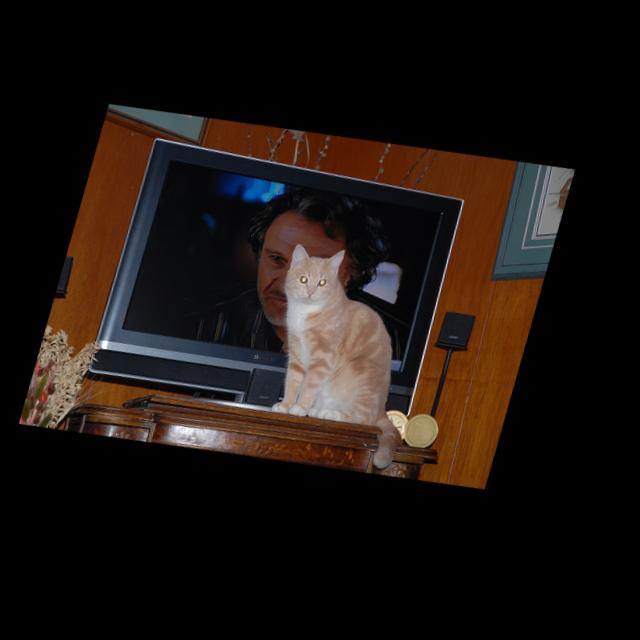animals: (287, 245, 348, 306)
